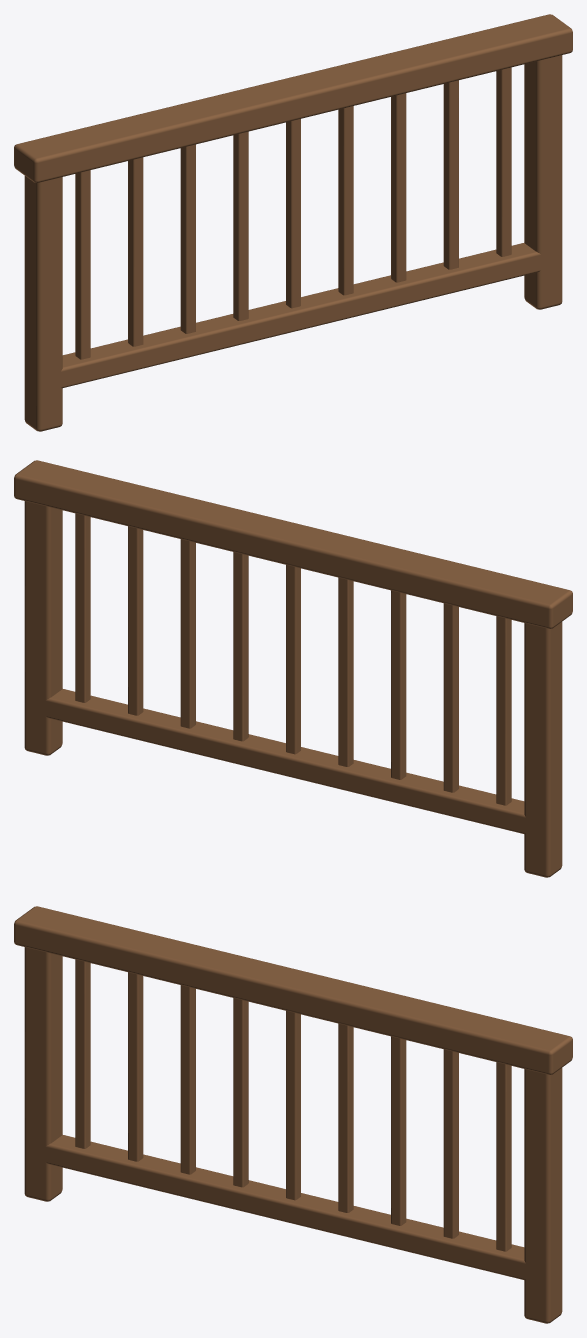
Rendered from city-courthouse-and-records-office-city-courthouse-and-18b69a92__30967.glb.
The picture shows the model from 3 angles, top to bottom: view 1: azimuth 30°, elevation 25°; view 2: azimuth 150°, elevation 25°; view 3: azimuth 330°, elevation 25°; orthographic projection.
Visible parts, largest first — view 1: city-courthouse-and-records-office-courtroom-rail; view 2: city-courthouse-and-records-office-courtroom-rail; view 3: city-courthouse-and-records-office-courtroom-rail.
Boxes of the visible parts, box(x1,y1,x2,y2) form: city-courthouse-and-records-office-courtroom-rail: box(14, 14, 572, 431); city-courthouse-and-records-office-courtroom-rail: box(14, 460, 572, 877); city-courthouse-and-records-office-courtroom-rail: box(14, 906, 572, 1323).
Bounding box in the file's own units: 2.05 × 1.01 × 0.1499.
